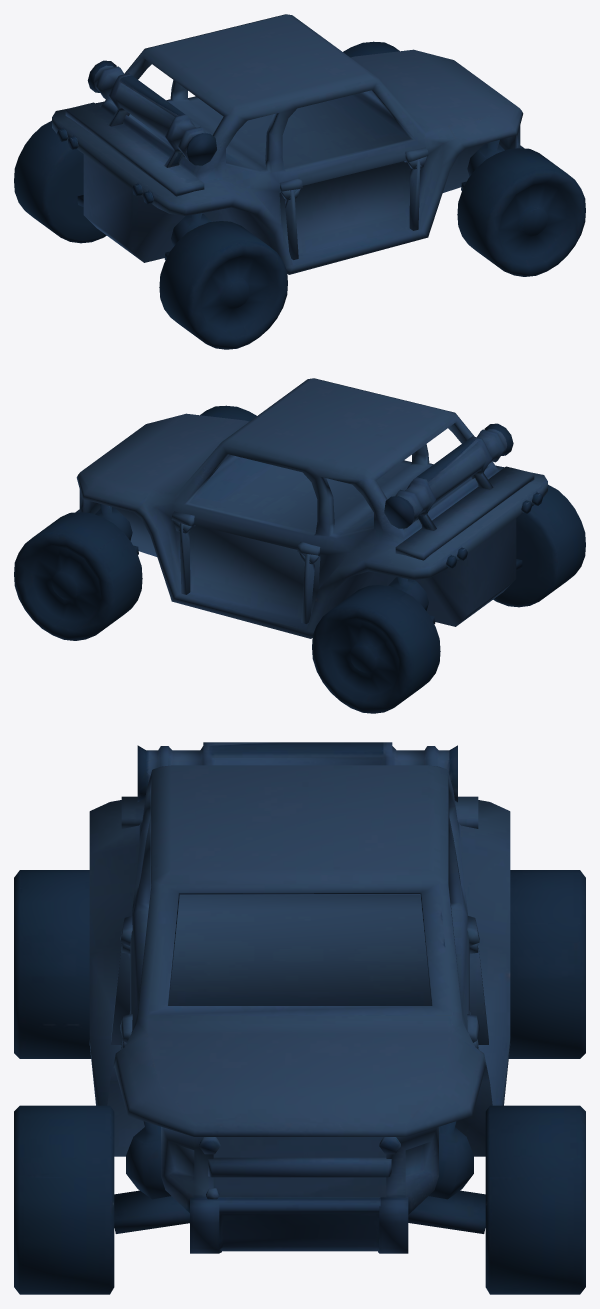
File: 20260601_215440_A_compact_stylized_off-road_.fbx
3 views of the same model, one above another, from view 1: azimuth 30°, elevation 25°; view 2: azimuth 150°, elevation 25°; view 3: azimuth 270°, elevation 25° (orthographic). The views are drawn at different scales.
Parts seen in each view (by area): view 1: tripo_node_dc35a98a; view 2: tripo_node_dc35a98a; view 3: tripo_node_dc35a98a.
Boxes of the visible parts, x1,y1,x2,y2 form: tripo_node_dc35a98a: [14, 14, 585, 349]; tripo_node_dc35a98a: [14, 378, 585, 713]; tripo_node_dc35a98a: [14, 742, 585, 1294].
Size of the model in its own units: 0.998 by 0.4746 by 0.7676.
1 material, 1 textured.
